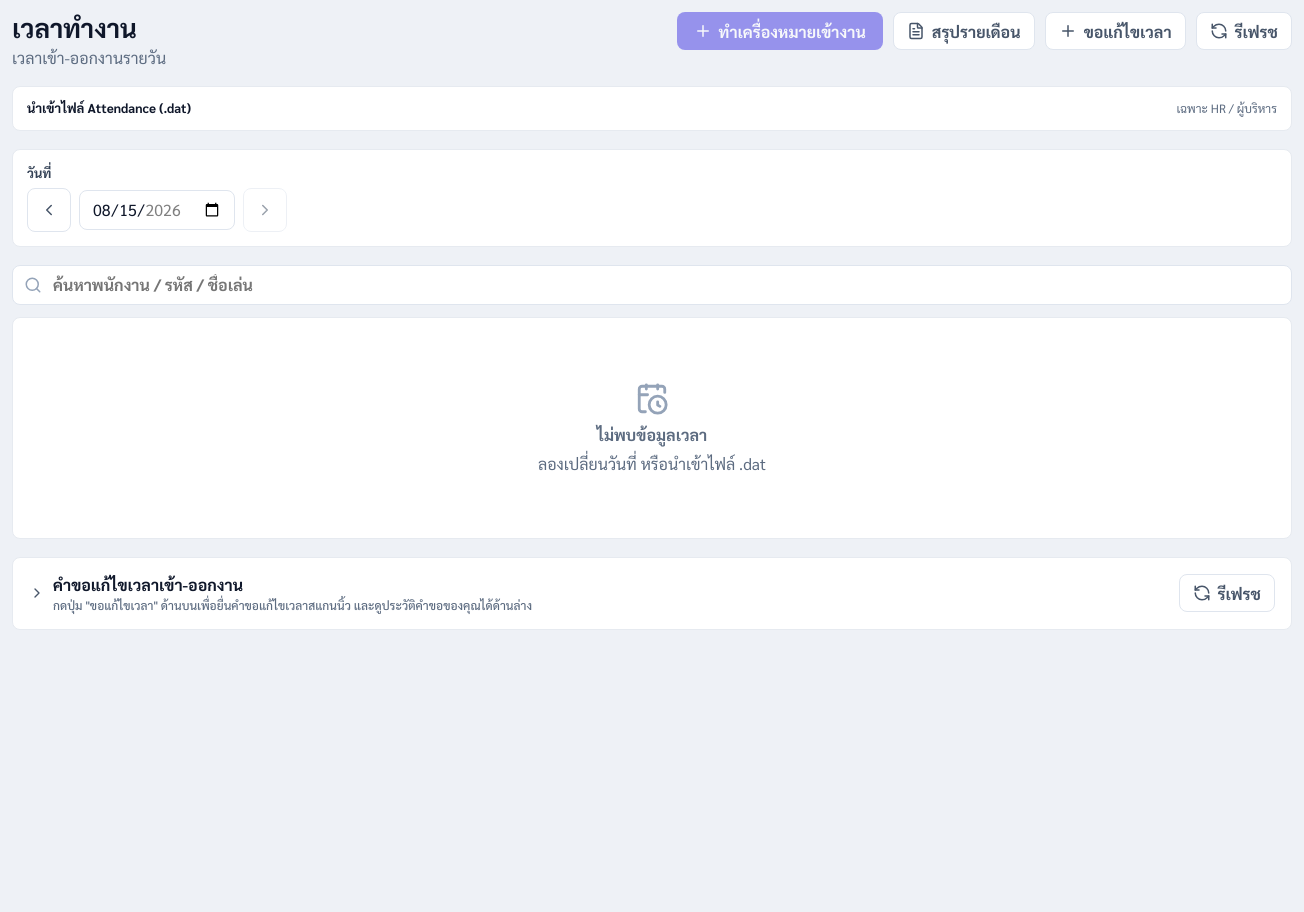
it: AttendancePage date stepper › previous then next round-trips to the original date, one calendar day at a time
Expected: the date field labelled "วันที่" holds "2026-08-15", x1=79 y1=190 x2=235 y2=230
Click the button named "วันก่อนหน้า" at (49, 210), box x1=27 y1=188 x2=71 y2=232
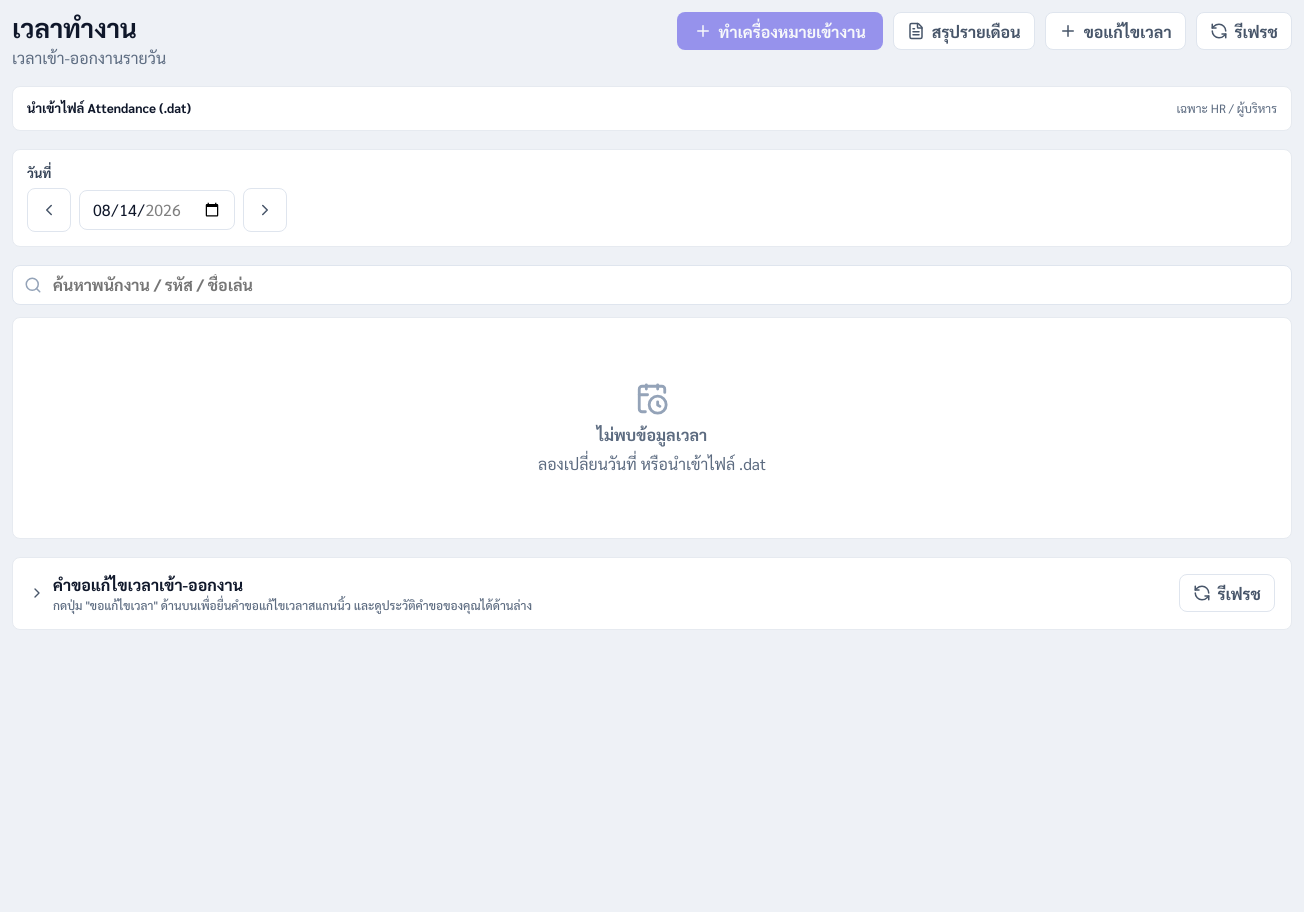
Expected: the date field labelled "วันที่" holds "2026-08-14", x1=79 y1=190 x2=235 y2=230
Click the button named "วันถัดไป" at (265, 210), box x1=243 y1=188 x2=287 y2=232
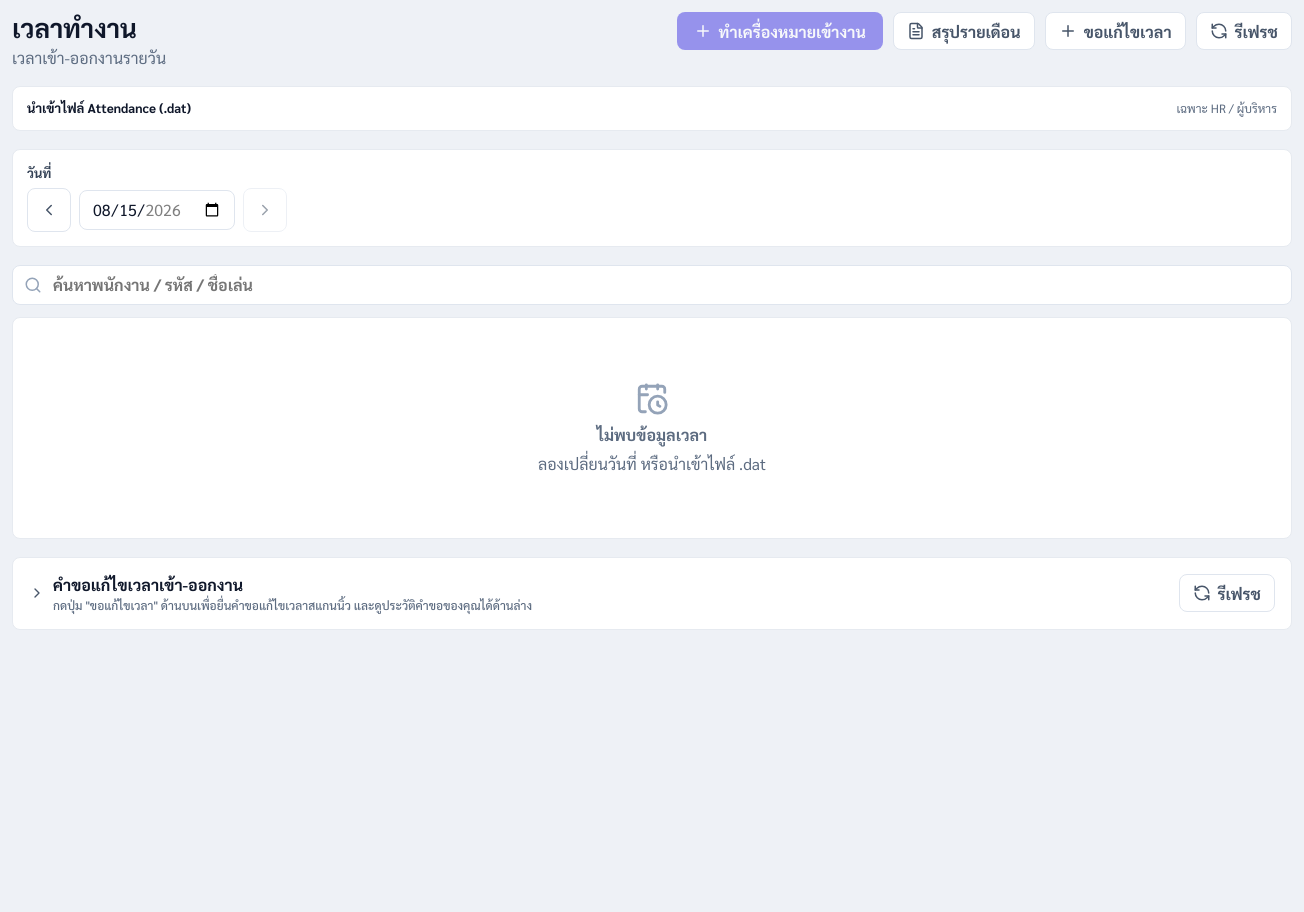
Expected: the date field labelled "วันที่" holds "2026-08-15", x1=79 y1=190 x2=235 y2=230
